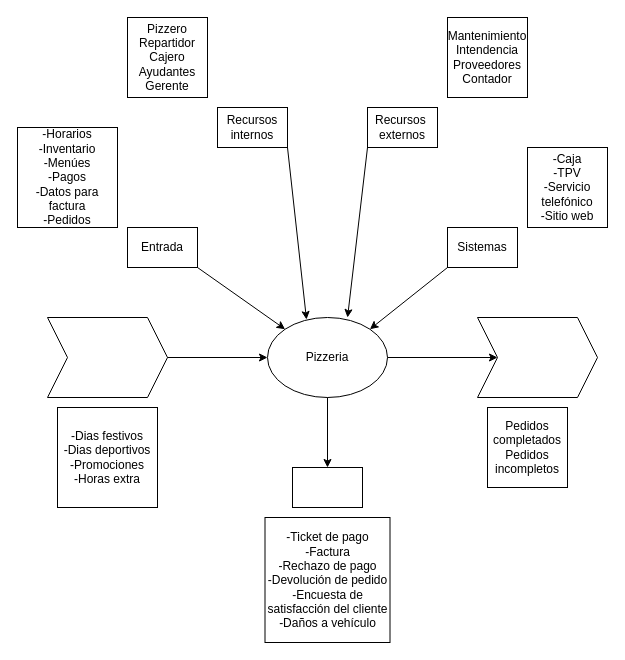
Some shapes in this 625 by 660 pixel diagram are drawn without their labels. The shapes that lost their labels are listed below. From the top down, each one's box as (x1, y1, x2, y2) in pixels, then its label:
(46, 316, 168, 398): Disparador
(476, 316, 598, 398): Resultado
(292, 466, 362, 508): Salida
